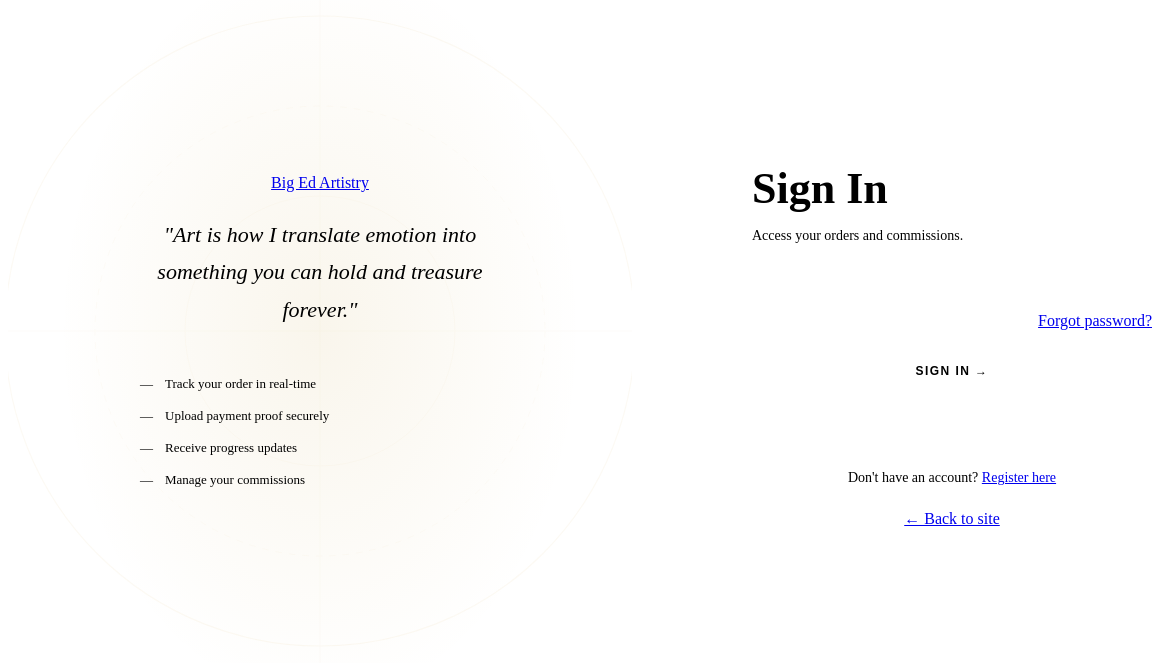
LoginPage › shows error when submitting empty fields
Click the button "Sign In →" at [952, 371], box [752, 350, 1152, 392]
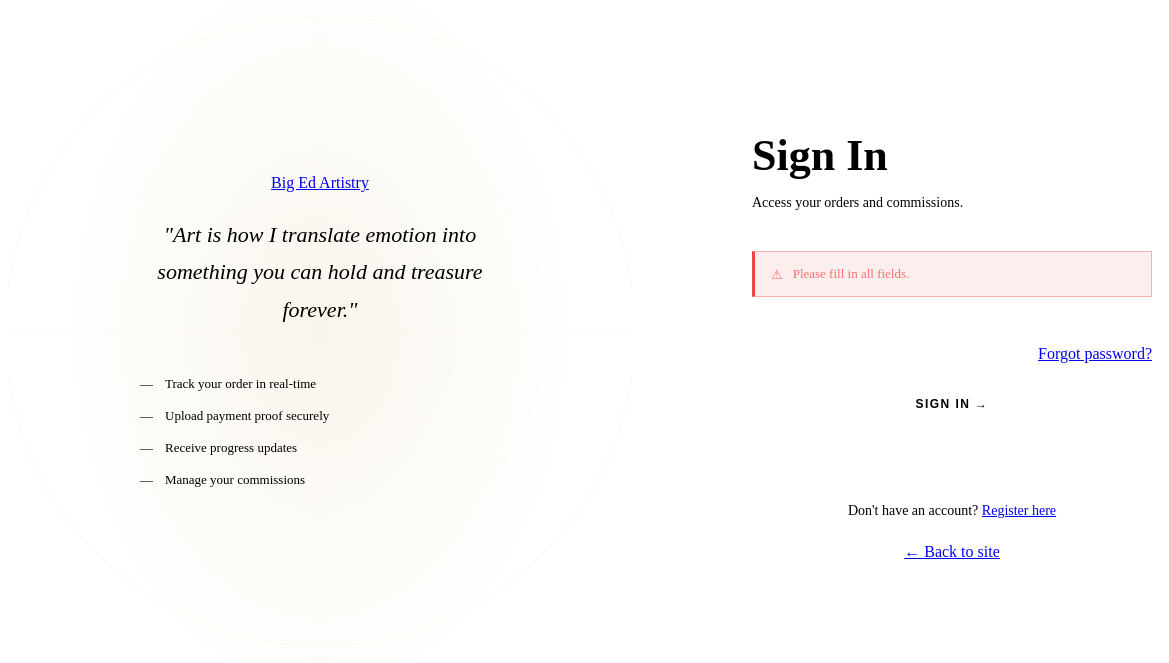
Expected: the text "Please fill in all fields." is shown, [793, 264, 909, 284]
